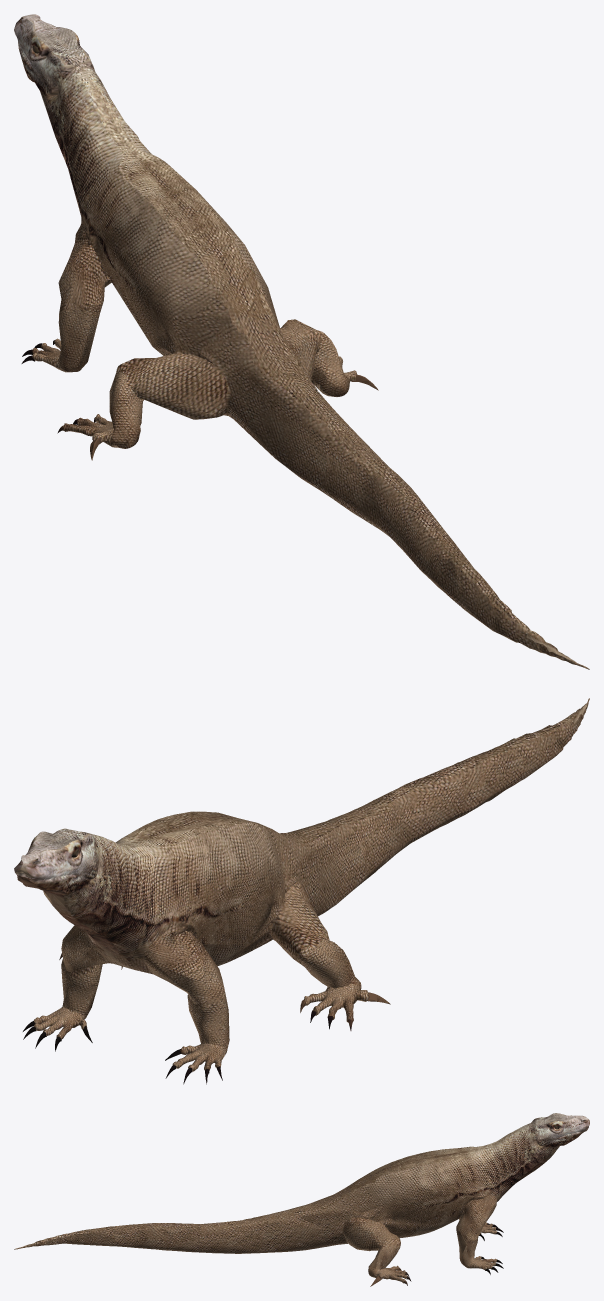
File: komodo.glb
3 renders of one model, top to bottom at view 1: azimuth 30°, elevation 25°; view 2: azimuth 150°, elevation 25°; view 3: azimuth 270°, elevation 25°, orthographic. The views are drawn at different scales.
Visible parts, largest first — view 1: 3DSMeshMatrix; view 2: 3DSMeshMatrix; view 3: 3DSMeshMatrix.
Part boxes in pixels (x1,y1,x2,y2): 3DSMeshMatrix: (14, 14, 589, 669); 3DSMeshMatrix: (14, 698, 589, 1071); 3DSMeshMatrix: (14, 1113, 589, 1283).
Size of the model in its own units: 3020 by 2625 by 10182.
19 materials, 17 textured.
